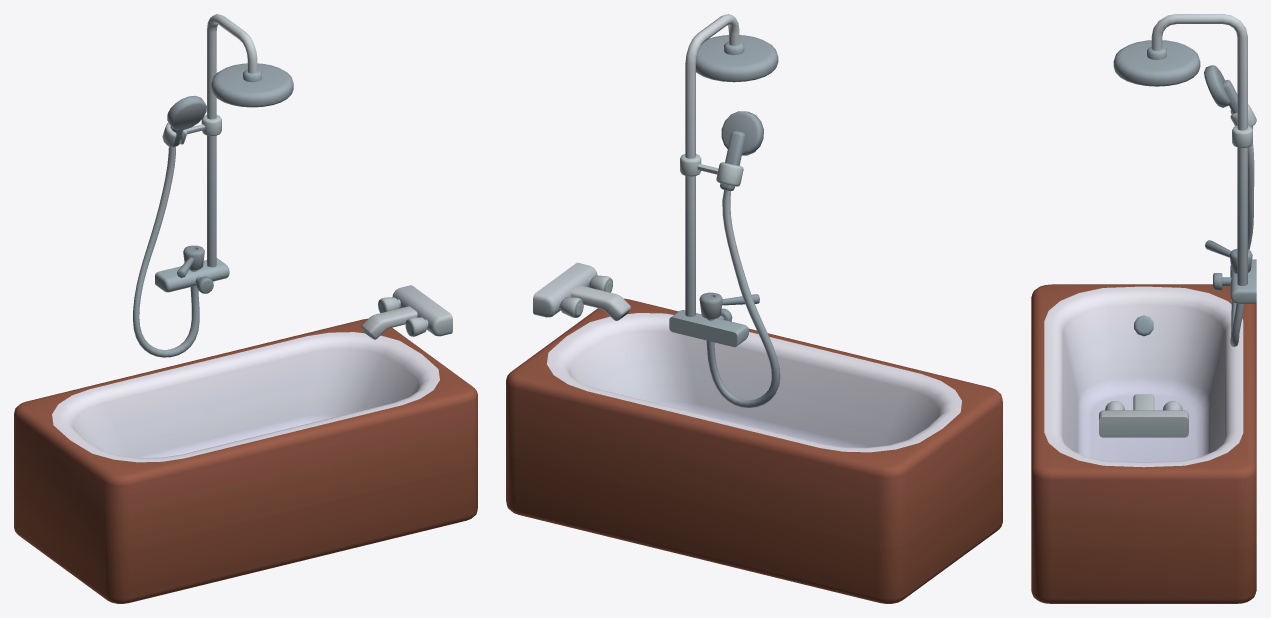
File: Bath_04.glb
3 views of the same model, side by side, from view 1: azimuth 30°, elevation 25°; view 2: azimuth 150°, elevation 25°; view 3: azimuth 270°, elevation 25° (orthographic). The views are drawn at different scales.
Parts seen in each view (by area): view 1: Bath_04; view 2: Bath_04; view 3: Bath_04.
Part boxes in pixels (box(x1,y1,x2,y2)): Bath_04: box(14, 14, 477, 603); Bath_04: box(506, 14, 1002, 603); Bath_04: box(1031, 14, 1256, 603).
Bounding box in the file's own units: 1.8 × 2.22 × 0.9005.
Materials: 1 (1 with a texture image).
